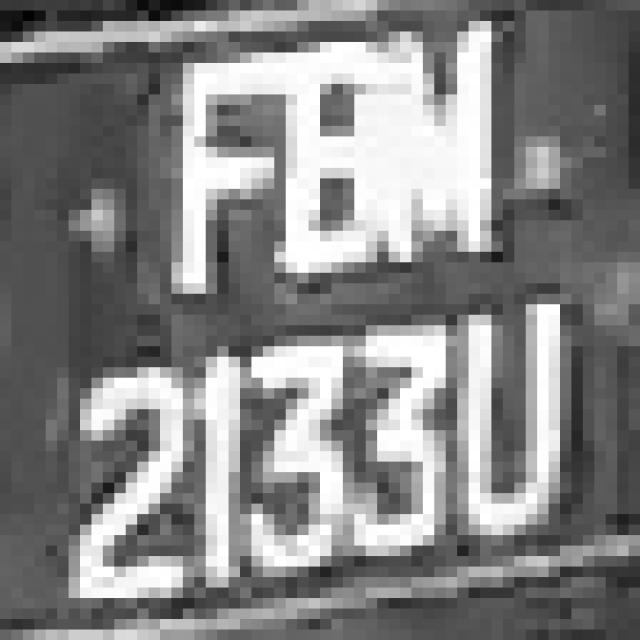1: (160, 304, 263, 609)
2: (46, 325, 194, 619)
3: (332, 304, 457, 598), (240, 284, 320, 630)
B: (252, 10, 412, 315)
F: (172, 21, 274, 304)
M: (366, 10, 526, 315)
U: (434, 273, 617, 608)
